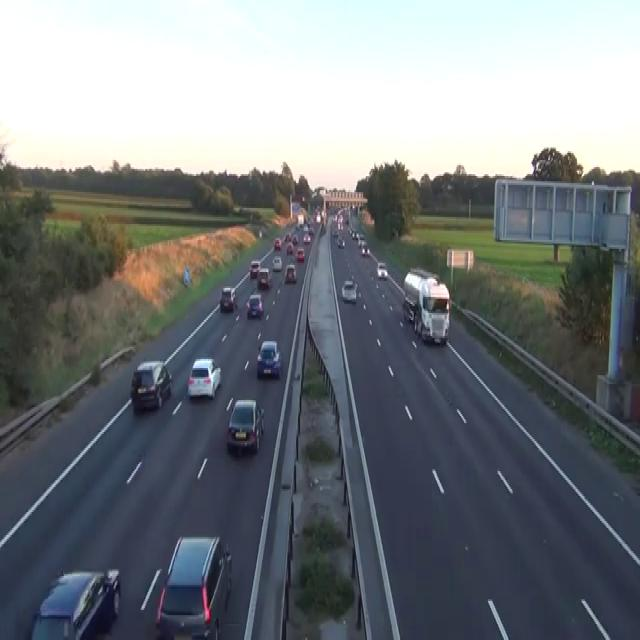Car: (155, 534, 232, 638), (30, 567, 120, 638), (130, 359, 172, 411), (226, 398, 264, 454), (187, 358, 221, 398), (256, 339, 281, 378), (219, 286, 236, 311), (246, 294, 263, 318), (402, 295, 415, 322), (341, 279, 356, 302), (256, 267, 272, 288), (284, 263, 297, 283), (413, 308, 422, 334), (376, 261, 387, 279), (249, 260, 260, 278), (272, 256, 282, 270), (358, 236, 367, 249), (296, 247, 304, 261), (273, 236, 281, 249), (361, 244, 369, 256), (285, 242, 293, 254), (337, 237, 345, 247), (284, 231, 291, 242), (303, 233, 310, 243), (291, 233, 298, 243), (352, 229, 358, 240), (358, 233, 365, 242), (302, 222, 308, 231), (332, 230, 338, 238), (308, 226, 314, 234), (258, 228, 262, 238), (315, 214, 320, 222)
Truck: (402, 267, 450, 345)
